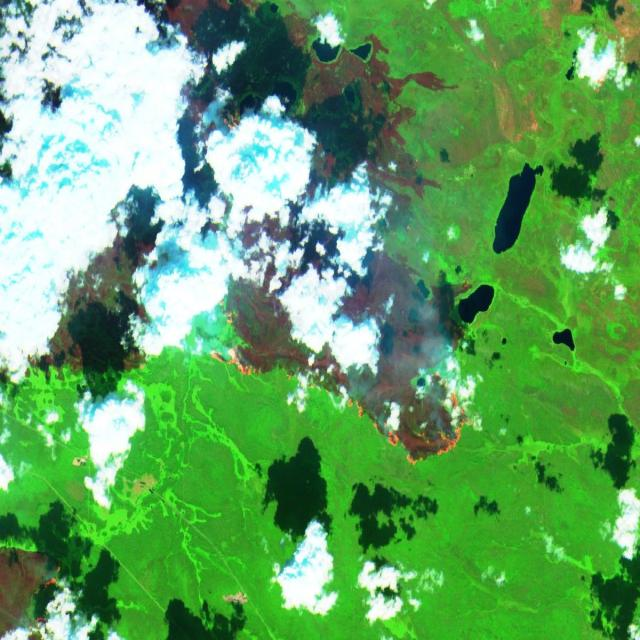fire: (205, 222, 485, 472)
